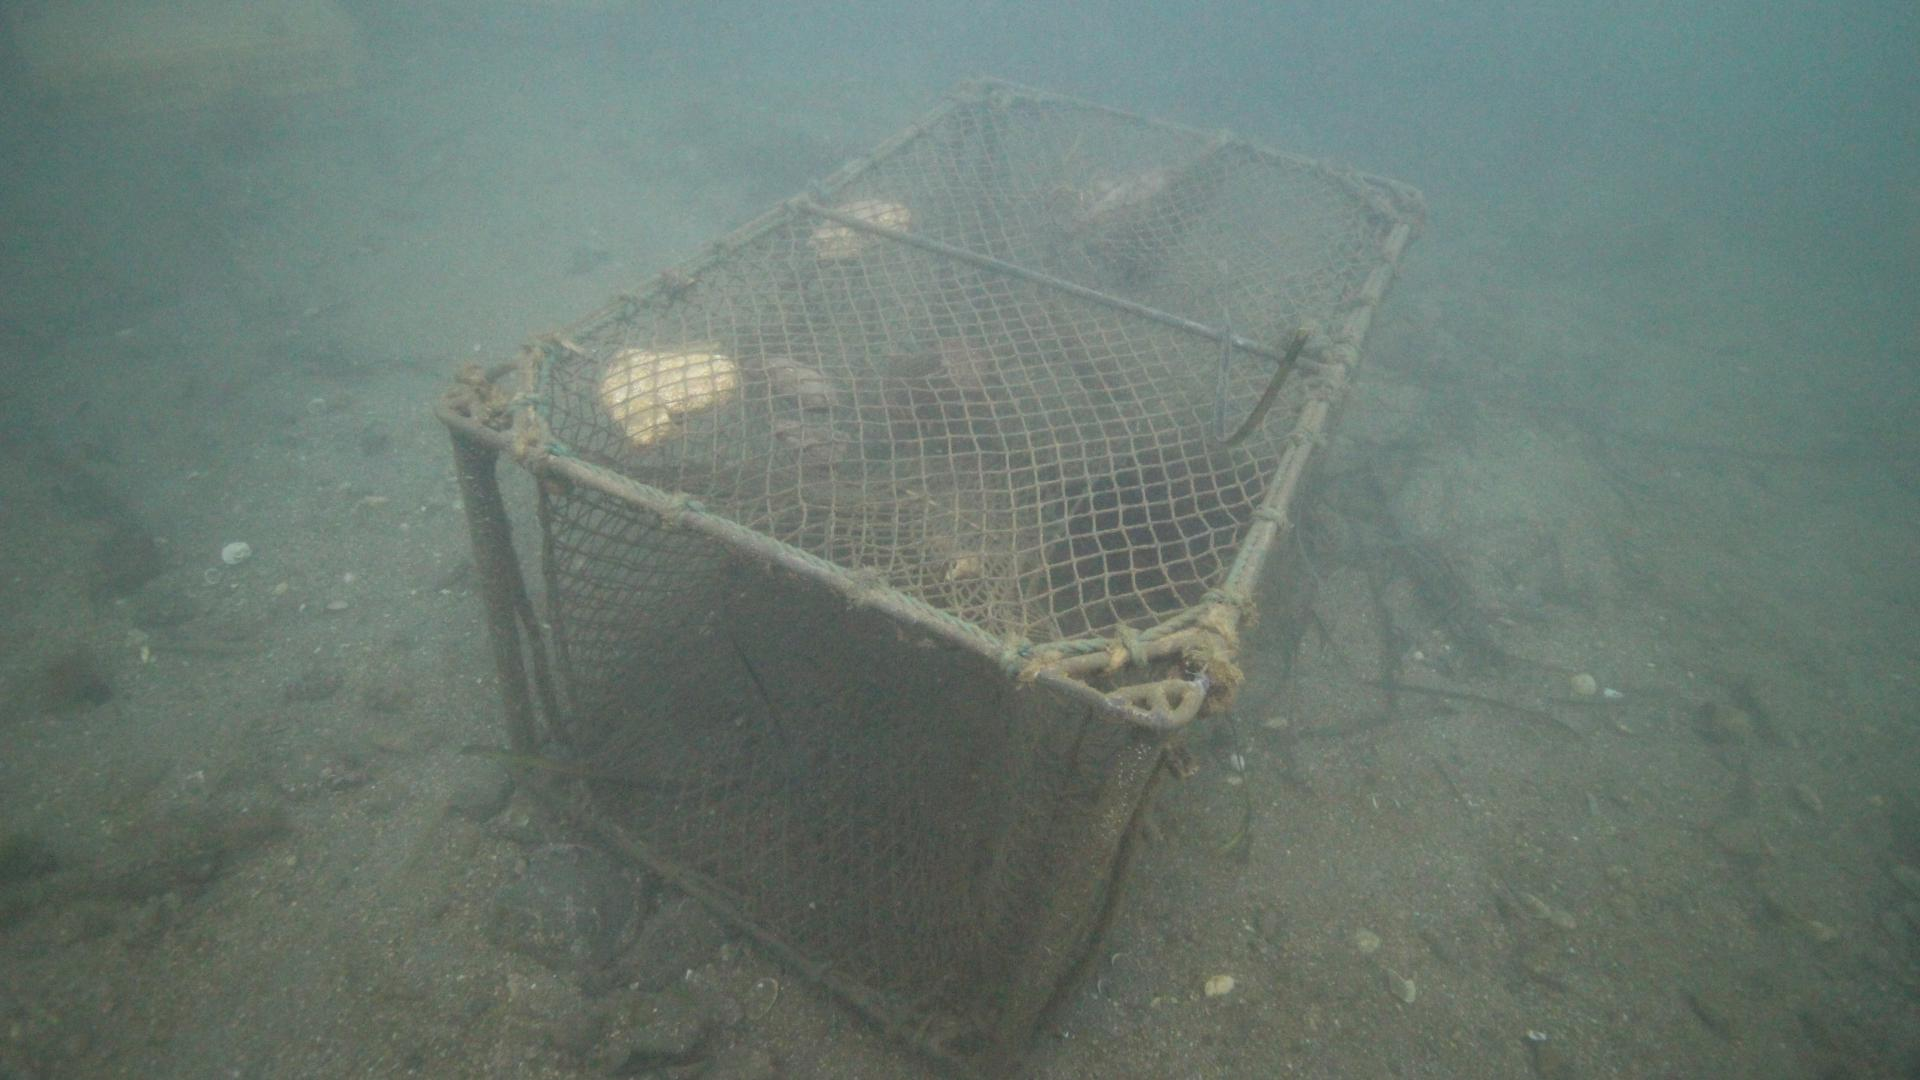rectangular fish trap: (433, 70, 1425, 1080)
